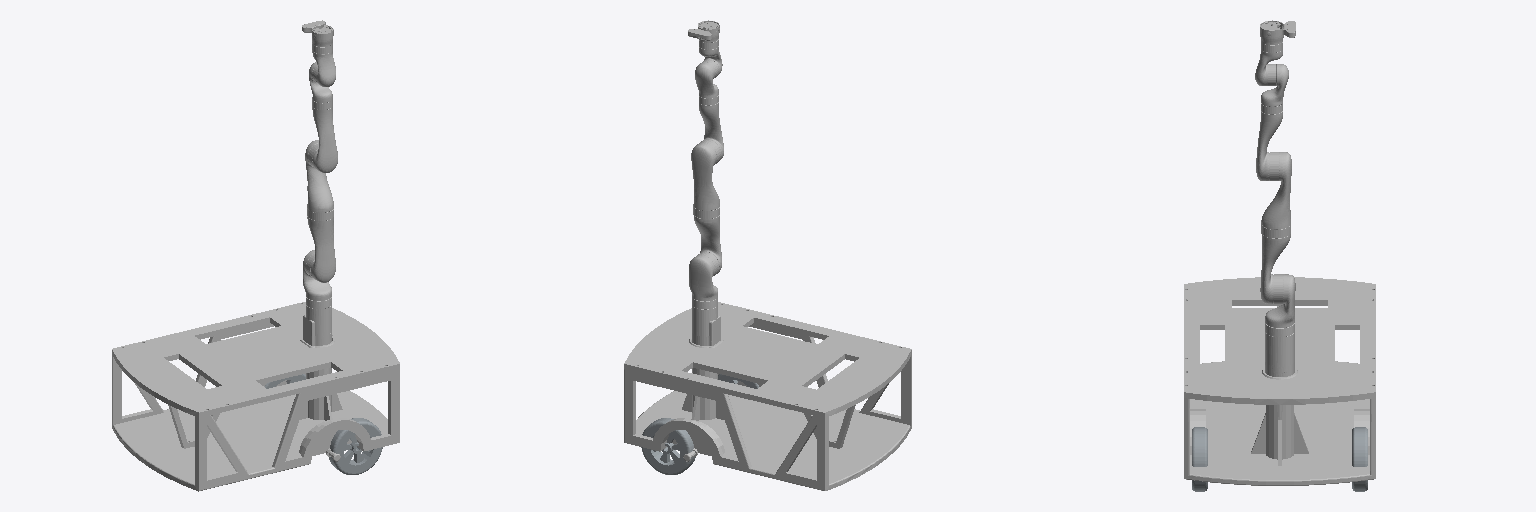
The robot description file, URDF, robot "Wheel_Mobile_Manipulator_URDF":
<?xml version="1.0" encoding="utf-8"?>
<!-- This URDF was automatically created by SolidWorks to URDF Exporter! Originally created by [author] ([email redacted]) 
     Commit Version: 1.6.0-4-g7f85cfe  Build Version: 1.6.7995.38578
     For more information, please see http://wiki.ros.org/sw_urdf_exporter -->
<robot
  name="Wheel_Mobile_Manipulator_URDF">
  <link
    name="Frame_Base">
    <inertial>
      <origin
        xyz="-0.220404256533912 4.34746524103843E-06 -0.149453443848564"
        rpy="0 0 0" />
      <mass
        value="24.9710693002439" />
      <inertia
        ixx="0.866944097756702"
        ixy="-2.49854830059428E-07"
        ixz="-0.0453643188615285"
        iyy="1.63760882672819"
        iyz="-1.90642963664106E-06"
        izz="2.34244361023883" />
    </inertial>
    <visual>
      <origin
        xyz="0 0 0"
        rpy="0 0 0" />
      <geometry>
        <mesh
          filename="package://Wheel_Mobile_Manipulator_URDF/meshes/Frame_Base.STL" />
      </geometry>
      <material
        name="">
        <color
          rgba="0.780392156862745 0.780392156862745 0.780392156862745 1" />
      </material>
    </visual>
    <collision>
      <origin
        xyz="0 0 0"
        rpy="0 0 0" />
      <geometry>
        <mesh
          filename="package://Wheel_Mobile_Manipulator_URDF/meshes/Frame_Base.STL" />
      </geometry>
    </collision>
  </link>
  <link
    name="Link1">
    <inertial>
      <origin
        xyz="-1.9665E-06 0.0098032 -0.053926"
        rpy="0 0 0" />
      <mass
        value="0.50842" />
      <inertia
        ixx="0.00070025"
        ixy="-2.0097E-08"
        ixz="-2.1013E-08"
        iyy="0.00082733"
        iyz="-7.3525E-05"
        izz="0.00048924" />
    </inertial>
    <visual>
      <origin
        xyz="0 0 0"
        rpy="0 0 0" />
      <geometry>
        <mesh
          filename="package://Wheel_Mobile_Manipulator_URDF/meshes/Link1.STL" />
      </geometry>
      <material
        name="">
        <color
          rgba="0.75294 0.75294 0.75294 1" />
      </material>
    </visual>
    <collision>
      <origin
        xyz="0 0 0"
        rpy="0 0 0" />
      <geometry>
        <mesh
          filename="package://Wheel_Mobile_Manipulator_URDF/meshes/Link1.STL" />
      </geometry>
    </collision>
  </link>
  <joint
    name="Joint1"
    type="continuous">
    <origin
      xyz="0 0 0.2848"
      rpy="0 0 0" />
    <parent
      link="Frame_Base" />
    <child
      link="Link1" />
    <axis
      xyz="0 0 1" />
    <limit
      lower="0"
      upper="0"
      effort="0"
      velocity="0" />
  </joint>
  <link
    name="Link2">
    <inertial>
      <origin
        xyz="-1.8401E-06 0.098847 0.0067744"
        rpy="0 0 0" />
      <mass
        value="0.4394" />
      <inertia
        ixx="0.00061344"
        ixy="-6.7995E-08"
        ixz="-2.0931E-08"
        iyy="0.00038571"
        iyz="6.3857E-05"
        izz="0.00069568" />
    </inertial>
    <visual>
      <origin
        xyz="0 0 0"
        rpy="0 0 0" />
      <geometry>
        <mesh
          filename="package://Wheel_Mobile_Manipulator_URDF/meshes/Link2.STL" />
      </geometry>
      <material
        name="">
        <color
          rgba="0.75294 0.75294 0.75294 1" />
      </material>
    </visual>
    <collision>
      <origin
        xyz="0 0 0"
        rpy="0 0 0" />
      <geometry>
        <mesh
          filename="package://Wheel_Mobile_Manipulator_URDF/meshes/Link2.STL" />
      </geometry>
    </collision>
  </link>
  <joint
    name="Joint2"
    type="revolute">
    <origin
      xyz="0 -0.0118 0"
      rpy="1.5708 0 0" />
    <parent
      link="Link1" />
    <child
      link="Link2" />
    <axis
      xyz="0 0 1" />
    <limit
      lower="-2.1991"
      upper="2.1991"
      effort="0"
      velocity="0" />
  </joint>
  <link
    name="Link3">
    <inertial>
      <origin
        xyz="-1.8393E-06 0.0066885 -0.094371"
        rpy="0 0 0" />
      <mass
        value="0.43861" />
      <inertia
        ixx="0.0012102"
        ixy="-8.1153E-09"
        ixz="5.895E-08"
        iyy="0.001291"
        iyz="-7.8769E-05"
        izz="0.00038569" />
    </inertial>
    <visual>
      <origin
        xyz="0 0 0"
        rpy="0 0 0" />
      <geometry>
        <mesh
          filename="package://Wheel_Mobile_Manipulator_URDF/meshes/Link3.STL" />
      </geometry>
      <material
        name="">
        <color
          rgba="0.75294 0.75294 0.75294 1" />
      </material>
    </visual>
    <collision>
      <origin
        xyz="0 0 0"
        rpy="0 0 0" />
      <geometry>
        <mesh
          filename="package://Wheel_Mobile_Manipulator_URDF/meshes/Link3.STL" />
      </geometry>
    </collision>
  </link>
  <joint
    name="Joint3"
    type="continuous">
    <origin
      xyz="0 0.4208 0"
      rpy="-1.5708 0 0" />
    <parent
      link="Link2" />
    <child
      link="Link3" />
    <axis
      xyz="0 0 1" />
    <limit
      lower="0"
      upper="0"
      effort="0"
      velocity="0" />
  </joint>
  <link
    name="Link4">
    <inertial>
      <origin
        xyz="2.4068E-06 0.076204 0.0082337"
        rpy="0 0 0" />
      <mass
        value="0.35461" />
      <inertia
        ixx="0.0004959"
        ixy="5.9288E-08"
        ixz="7.472E-10"
        iyy="0.00022825"
        iyz="5.7801E-05"
        izz="0.00057365" />
    </inertial>
    <visual>
      <origin
        xyz="0 0 0"
        rpy="0 0 0" />
      <geometry>
        <mesh
          filename="package://Wheel_Mobile_Manipulator_URDF/meshes/Link4.STL" />
      </geometry>
      <material
        name="">
        <color
          rgba="0.75294 0.75294 0.75294 1" />
      </material>
    </visual>
    <collision>
      <origin
        xyz="0 0 0"
        rpy="0 0 0" />
      <geometry>
        <mesh
          filename="package://Wheel_Mobile_Manipulator_URDF/meshes/Link4.STL" />
      </geometry>
    </collision>
  </link>
  <joint
    name="Joint4"
    type="revolute">
    <origin
      xyz="0 -0.0128 0"
      rpy="1.5708 0 0" />
    <parent
      link="Link3" />
    <child
      link="Link4" />
    <axis
      xyz="0 0 1" />
    <limit
      lower="-2.5656"
      upper="2.5656"
      effort="0"
      velocity="0" />
  </joint>
  <link
    name="Link5">
    <inertial>
      <origin
        xyz="-3.2453E-06 0.0092573 -0.042922"
        rpy="0 0 0" />
      <mass
        value="0.25083" />
      <inertia
        ixx="0.00019933"
        ixy="-1.363E-08"
        ixz="-4.4692E-08"
        iyy="0.00021608"
        iyz="-2.2091E-05"
        izz="0.00013443" />
    </inertial>
    <visual>
      <origin
        xyz="0 0 0"
        rpy="0 0 0" />
      <geometry>
        <mesh
          filename="package://Wheel_Mobile_Manipulator_URDF/meshes/Link5.STL" />
      </geometry>
      <material
        name="">
        <color
          rgba="0.75294 0.75294 0.75294 1" />
      </material>
    </visual>
    <collision>
      <origin
        xyz="0 0 0"
        rpy="0 0 0" />
      <geometry>
        <mesh
          filename="package://Wheel_Mobile_Manipulator_URDF/meshes/Link5.STL" />
      </geometry>
    </collision>
  </link>
  <joint
    name="Joint5"
    type="continuous">
    <origin
      xyz="0 0.3143 0"
      rpy="-1.5708 0 0" />
    <parent
      link="Link4" />
    <child
      link="Link5" />
    <axis
      xyz="0 0 1" />
    <limit
      lower="0"
      upper="0"
      effort="0"
      velocity="0" />
  </joint>
  <link
    name="Link6">
    <inertial>
      <origin
        xyz="-1.7292E-06 0.045401 0.009232"
        rpy="0 0 0" />
      <mass
        value="0.25081" />
      <inertia
        ixx="0.00021275"
        ixy="1.2745E-08"
        ixz="-5.3343E-09"
        iyy="0.00013776"
        iyz="3.0165E-05"
        izz="0.00022615" />
    </inertial>
    <visual>
      <origin
        xyz="0 0 0"
        rpy="0 0 0" />
      <geometry>
        <mesh
          filename="package://Wheel_Mobile_Manipulator_URDF/meshes/Link6.STL" />
      </geometry>
      <material
        name="">
        <color
          rgba="0.75294 0.75294 0.75294 1" />
      </material>
    </visual>
    <collision>
      <origin
        xyz="0 0 0"
        rpy="0 0 0" />
      <geometry>
        <mesh
          filename="package://Wheel_Mobile_Manipulator_URDF/meshes/Link6.STL" />
      </geometry>
    </collision>
  </link>
  <joint
    name="Joint6"
    type="revolute">
    <origin
      xyz="0 0 0"
      rpy="1.5708 0 0" />
    <parent
      link="Link5" />
    <child
      link="Link6" />
    <axis
      xyz="0 0 1" />
    <limit
      lower="-2.042"
      upper="2.042"
      effort="0"
      velocity="0" />
  </joint>
  <link
    name="Link7">
    <inertial>
      <origin
        xyz="-0.00014216 0.0088091 0.13293"
        rpy="0 0 0" />
      <mass
        value="0.16126" />
      <inertia
        ixx="6.5041E-05"
        ixy="1.0089E-07"
        ixz="3.2323E-07"
        iyy="8.0848E-05"
        iyz="1.7333E-07"
        izz="0.00010703" />
    </inertial>
    <visual>
      <origin
        xyz="0 0 0"
        rpy="0 0 0" />
      <geometry>
        <mesh
          filename="package://Wheel_Mobile_Manipulator_URDF/meshes/Link7.STL" />
      </geometry>
      <material
        name="">
        <color
          rgba="0.75294 0.75294 0.75294 1" />
      </material>
    </visual>
    <collision>
      <origin
        xyz="0 0 0"
        rpy="0 0 0" />
      <geometry>
        <mesh
          filename="package://Wheel_Mobile_Manipulator_URDF/meshes/Link7.STL" />
      </geometry>
    </collision>
  </link>
  <joint
    name="Joint7"
    type="continuous">
    <origin
      xyz="0 0 0"
      rpy="-1.5708 0 0" />
    <parent
      link="Link6" />
    <child
      link="Link7" />
    <axis
      xyz="0 0 1" />
    <limit
      lower="0"
      upper="0"
      effort="0"
      velocity="0" />
  </joint>
  <link
    name="Link_Rear1">
    <inertial>
      <origin
        xyz="-0.023595 5.4088E-08 -0.028362"
        rpy="0 0 0" />
      <mass
        value="0.045082" />
      <inertia
        ixx="2.1663E-05"
        ixy="-1.5812E-11"
        ixz="-1.2714E-05"
        iyy="3.3958E-05"
        iyz="-5.028E-12"
        izz="2.4439E-05" />
    </inertial>
    <visual>
      <origin
        xyz="0 0 0"
        rpy="0 0 0" />
      <geometry>
        <mesh
          filename="package://Wheel_Mobile_Manipulator_URDF/meshes/Link_Rear1.STL" />
      </geometry>
      <material
        name="">
        <color
          rgba="0.84314 0.81569 0.75294 1" />
      </material>
    </visual>
    <collision>
      <origin
        xyz="0 0 0"
        rpy="0 0 0" />
      <geometry>
        <mesh
          filename="package://Wheel_Mobile_Manipulator_URDF/meshes/Link_Rear1.STL" />
      </geometry>
    </collision>
  </link>
  <joint
    name="Joint_Rear1"
    type="continuous">
    <origin
      xyz="-0.5 0 -0.31"
      rpy="0 0 0" />
    <parent
      link="Frame_Base" />
    <child
      link="Link_Rear1" />
    <axis
      xyz="0 0 1" />
    <limit
      lower="0"
      upper="0"
      effort="0"
      velocity="0" />
  </joint>
  <link
    name="Link_Rear2">
    <inertial>
      <origin
        xyz="-1.1102E-16 1.1102E-16 -0.015"
        rpy="0 0 0" />
      <mass
        value="0.033157" />
      <inertia
        ixx="8.7716E-06"
        ixy="1.4781E-21"
        ixz="1.2707E-22"
        iyy="8.7716E-06"
        iyz="-4.9526E-23"
        izz="1.6122E-05" />
    </inertial>
    <visual>
      <origin
        xyz="0 0 0"
        rpy="0 0 0" />
      <geometry>
        <mesh
          filename="package://Wheel_Mobile_Manipulator_URDF/meshes/Link_Rear2.STL" />
      </geometry>
      <material
        name="">
        <color
          rgba="0.63137 0.65882 0.67843 1" />
      </material>
    </visual>
    <collision>
      <origin
        xyz="0 0 0"
        rpy="0 0 0" />
      <geometry>
        <mesh
          filename="package://Wheel_Mobile_Manipulator_URDF/meshes/Link_Rear2.STL" />
      </geometry>
    </collision>
  </link>
  <joint
    name="Joint_Rear2"
    type="continuous">
    <origin
      xyz="-0.05 -0.015 -0.06"
      rpy="1.5708 0 0" />
    <parent
      link="Link_Rear1" />
    <child
      link="Link_Rear2" />
    <axis
      xyz="0 0 1" />
    <limit
      lower="0"
      upper="0"
      effort="0"
      velocity="0" />
  </joint>
  <link
    name="Link_Wheel_Left">
    <inertial>
      <origin
        xyz="-1.1102E-16 -2.2204E-16 0.025"
        rpy="0 0 0" />
      <mass
        value="1.1169" />
      <inertia
        ixx="0.0035999"
        ixy="1.6527E-19"
        ixz="-9.691E-21"
        iyy="0.0035999"
        iyz="-1.3118E-19"
        izz="0.0067919" />
    </inertial>
    <visual>
      <origin
        xyz="0 0 0"
        rpy="0 0 0" />
      <geometry>
        <mesh
          filename="package://Wheel_Mobile_Manipulator_URDF/meshes/Link_Wheel_Left.STL" />
      </geometry>
      <material
        name="">
        <color
          rgba="0.63137 0.65882 0.67843 1" />
      </material>
    </visual>
    <collision>
      <origin
        xyz="0 0 0"
        rpy="0 0 0" />
      <geometry>
        <mesh
          filename="package://Wheel_Mobile_Manipulator_URDF/meshes/Link_Wheel_Left.STL" />
      </geometry>
    </collision>
  </link>
  <joint
    name="Joint_Wheel_Left"
    type="continuous">
    <origin
      xyz="0 0.275 -0.3"
      rpy="1.5708 0 0" />
    <parent
      link="Frame_Base" />
    <child
      link="Link_Wheel_Left" />
    <axis
      xyz="0 0 1" />
    <limit
      lower="0"
      upper="0"
      effort="0"
      velocity="0" />
  </joint>
  <link
    name="Link_Wheel_Right">
    <inertial>
      <origin
        xyz="-6.6613E-16 3.3307E-16 -0.025"
        rpy="0 0 0" />
      <mass
        value="1.1169" />
      <inertia
        ixx="0.0035999"
        ixy="3.3935E-19"
        ixz="-2.4029E-20"
        iyy="0.0035999"
        iyz="-3.291E-19"
        izz="0.0067919" />
    </inertial>
    <visual>
      <origin
        xyz="0 0 0"
        rpy="0 0 0" />
      <geometry>
        <mesh
          filename="package://Wheel_Mobile_Manipulator_URDF/meshes/Link_Wheel_Right.STL" />
      </geometry>
      <material
        name="">
        <color
          rgba="0.63137 0.65882 0.67843 1" />
      </material>
    </visual>
    <collision>
      <origin
        xyz="0 0 0"
        rpy="0 0 0" />
      <geometry>
        <mesh
          filename="package://Wheel_Mobile_Manipulator_URDF/meshes/Link_Wheel_Right.STL" />
      </geometry>
    </collision>
  </link>
  <joint
    name="Joint_Wheel_Right"
    type="continuous">
    <origin
      xyz="0 -0.275 -0.3"
      rpy="1.5708 0 0" />
    <parent
      link="Frame_Base" />
    <child
      link="Link_Wheel_Right" />
    <axis
      xyz="0 0 1" />
    <limit
      lower="0"
      upper="0"
      effort="0"
      velocity="0" />
  </joint>
</robot>

--- Facts derived from the render (not from the file) ---
3 views of the same robot in one strip: view 1: azimuth 30°, elevation 25°; view 2: azimuth 150°, elevation 25°; view 3: azimuth 270°, elevation 25° (orthographic).
Robot: Wheel_Mobile_Manipulator_URDF — 12 links, 11 joints (3 revolute, 8 continuous); root link Frame_Base; default pose: every joint at zero.
Visible links, largest first — view 1: Frame_Base, Link_Wheel_Right, Link2, Link4, Link3, Link1, Link6, Link7; view 2: Frame_Base, Link_Wheel_Left, Link3, Link1, Link2, Link4, Link5; view 3: Frame_Base, Link3, Link2, Link1, Link4, Link5, Link_Wheel_Left, Link_Wheel_Right, Link7, Link6.
Link boxes in pixels (x1=…): Frame_Base: x1=112, y1=297, x2=399, y2=491; Link_Wheel_Right: x1=329, y1=418, x2=382, y2=474; Link2: x1=307, y1=208, x2=335, y2=282; Link4: x1=312, y1=99, x2=337, y2=172; Link3: x1=305, y1=140, x2=333, y2=212; Link1: x1=303, y1=250, x2=331, y2=300; Link6: x1=312, y1=43, x2=335, y2=86; Link7: x1=302, y1=20, x2=333, y2=46; Frame_Base: x1=624, y1=298, x2=911, y2=490; Link_Wheel_Left: x1=641, y1=418, x2=695, y2=474; Link3: x1=691, y1=139, x2=720, y2=210; Link1: x1=689, y1=252, x2=718, y2=301; Link2: x1=693, y1=206, x2=721, y2=273; Link4: x1=699, y1=95, x2=723, y2=159; Link5: x1=695, y1=59, x2=718, y2=98; Frame_Base: x1=1184, y1=277, x2=1375, y2=485; Link3: x1=1261, y1=152, x2=1291, y2=229; Link2: x1=1260, y1=224, x2=1290, y2=303; Link1: x1=1265, y1=274, x2=1295, y2=327; Link4: x1=1256, y1=103, x2=1282, y2=180; Link5: x1=1261, y1=64, x2=1288, y2=106; Link_Wheel_Left: x1=1352, y1=427, x2=1367, y2=491; Link_Wheel_Right: x1=1192, y1=427, x2=1207, y2=491; Link7: x1=1260, y1=20, x2=1295, y2=44; Link6: x1=1255, y1=42, x2=1282, y2=85.
Size in the robot's own frame: 0.9 by 0.6 by 1.59 metres.
12 mesh visuals loaded from 12 distinct referenced files (12 binary STL).